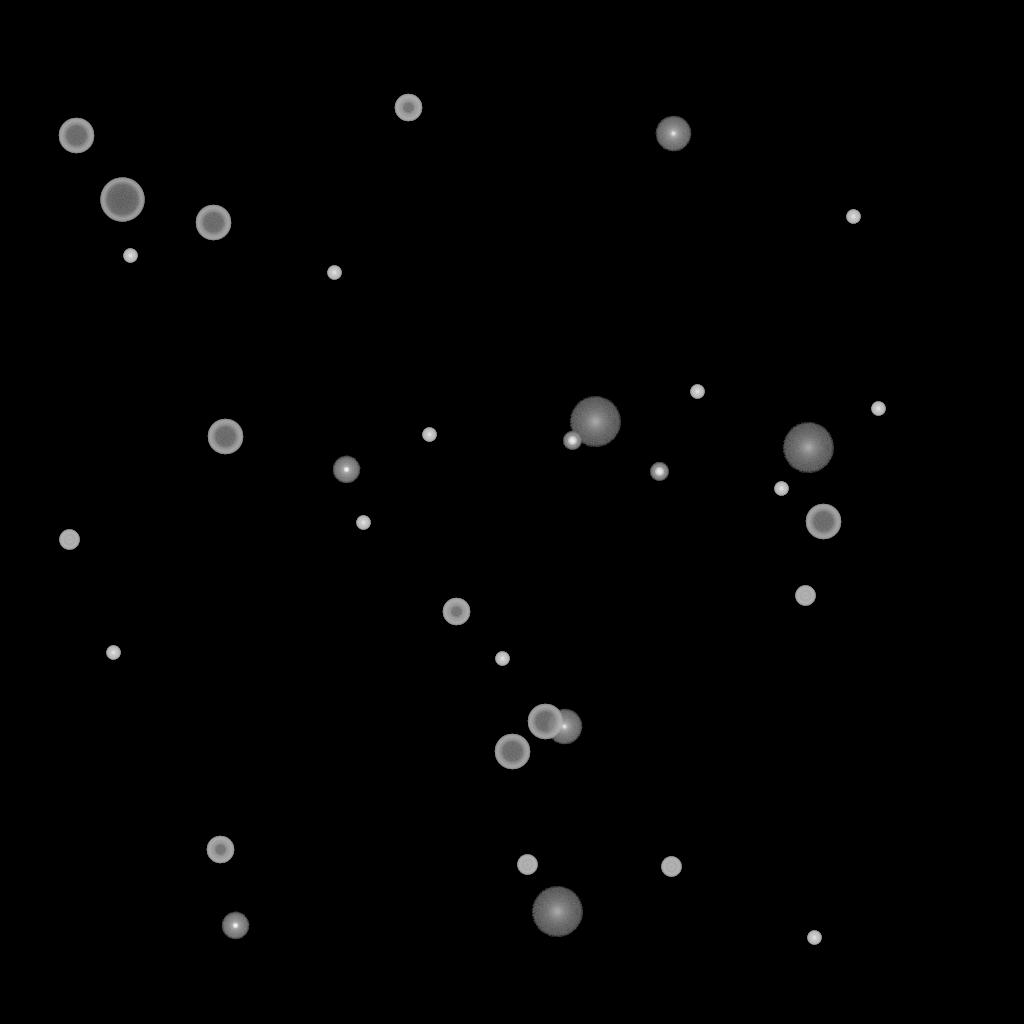depth:-10: (332, 456, 360, 484), (221, 912, 249, 940)
depth:-20: (563, 432, 581, 450), (650, 463, 668, 481)
depth:-30: (690, 385, 704, 399), (123, 249, 137, 263), (871, 402, 885, 416), (495, 652, 509, 666), (846, 210, 860, 224), (106, 646, 120, 660), (356, 516, 370, 530), (807, 931, 821, 945), (774, 482, 788, 496), (422, 428, 436, 442), (327, 266, 341, 280)
depth:-40: (517, 855, 537, 875), (795, 586, 815, 606), (661, 857, 681, 877), (59, 530, 79, 550)
depth:-50: (394, 94, 422, 122), (442, 598, 470, 626), (206, 836, 234, 864)
depth:-60: (207, 419, 243, 455), (805, 504, 841, 540), (527, 704, 563, 740), (494, 734, 530, 770), (195, 205, 231, 241), (58, 118, 94, 154)
depth:-70: (100, 178, 144, 222)
depth:0: (546, 709, 582, 745), (655, 116, 691, 152)
depth:20: (569, 397, 621, 447), (531, 887, 583, 937), (782, 423, 834, 473)
